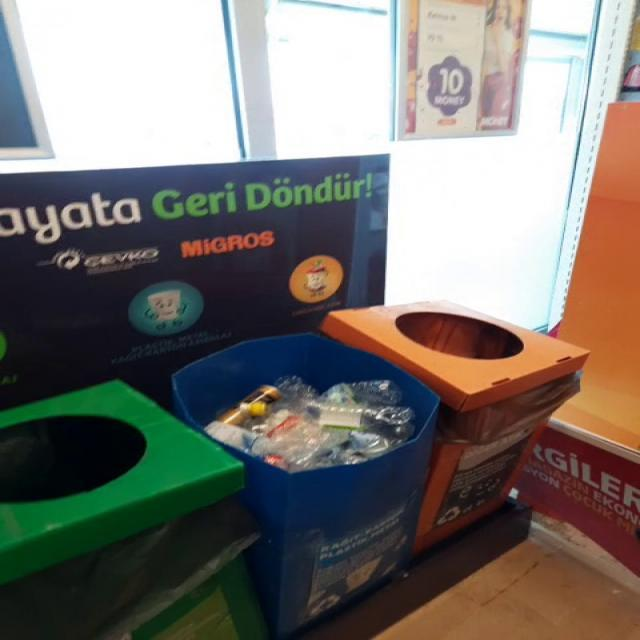Bin: (0, 301, 589, 640)
Metal: (241, 387, 281, 404), (217, 404, 249, 425)
